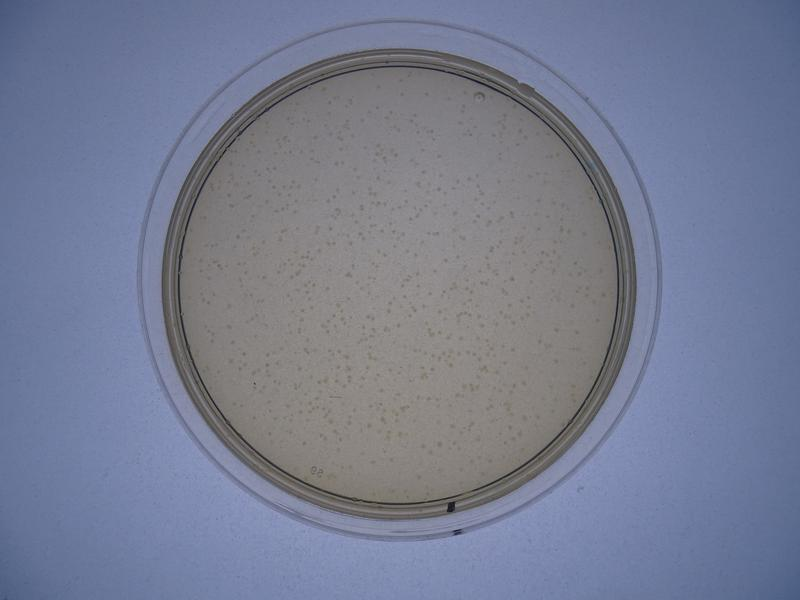colony: (447, 205, 461, 219), (436, 254, 450, 267), (547, 323, 562, 335), (366, 456, 378, 470), (256, 236, 270, 247), (373, 84, 385, 94)
